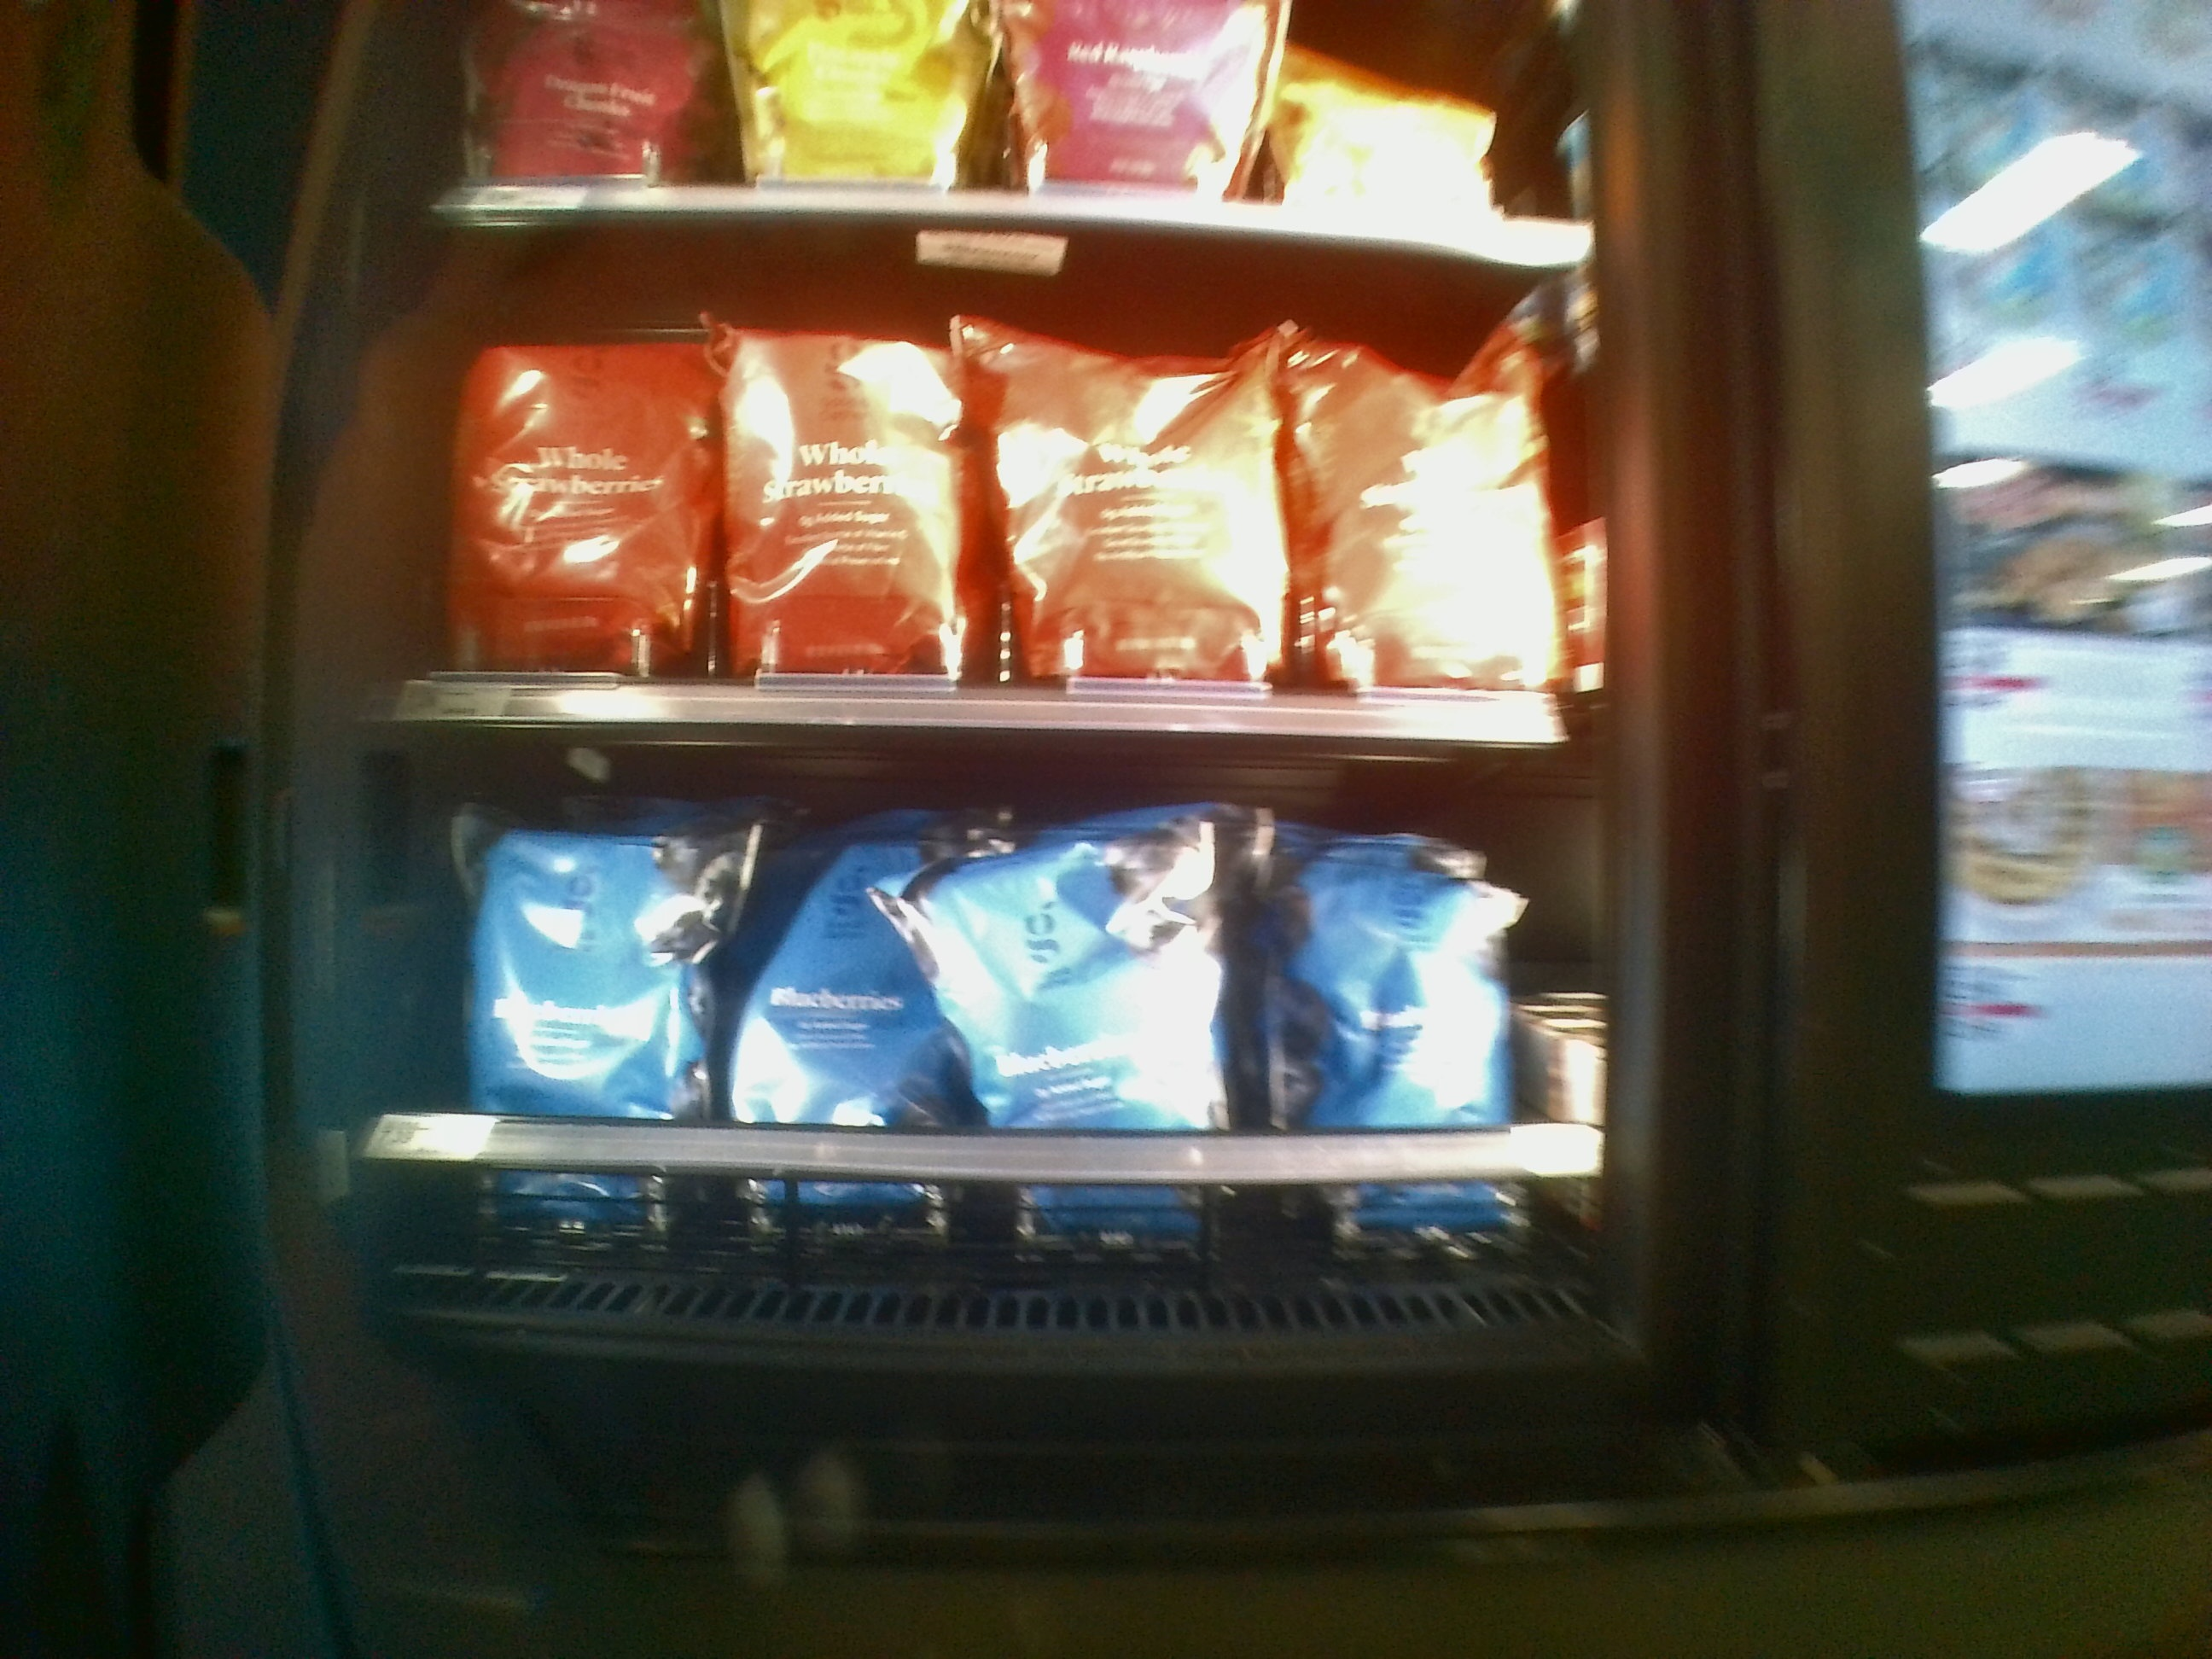shelf: (381, 739, 1588, 1286), (378, 234, 1587, 734)
